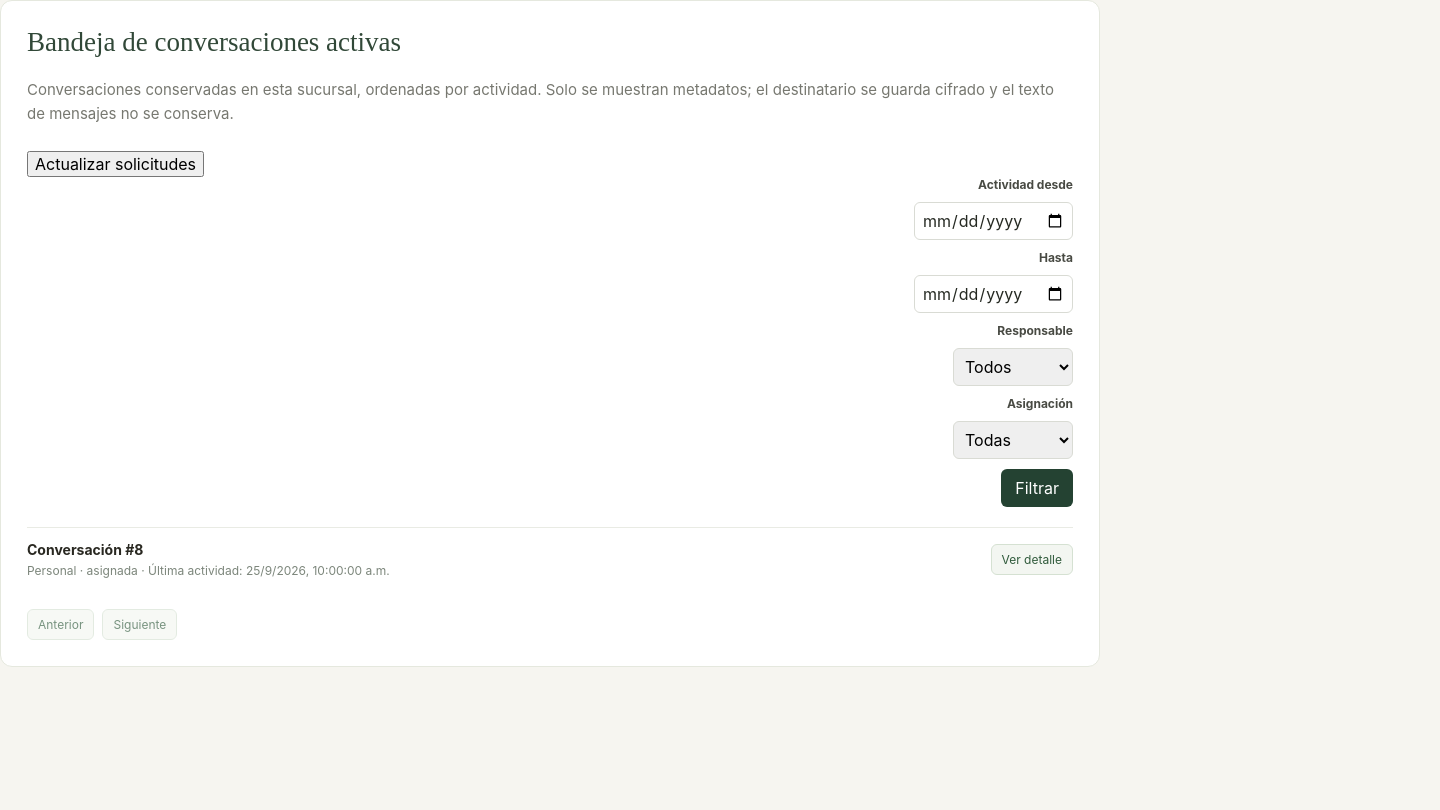
Test case: oculta la respuesta si el chat pertenece a otra persona
The image size is (1440, 810).
Expected: the text "Conversación #8" is shown, [27,541,143,558]
Click the button "Ver detalle".
click(1032, 560)  # box [991,544,1073,575]
(page scrolled)
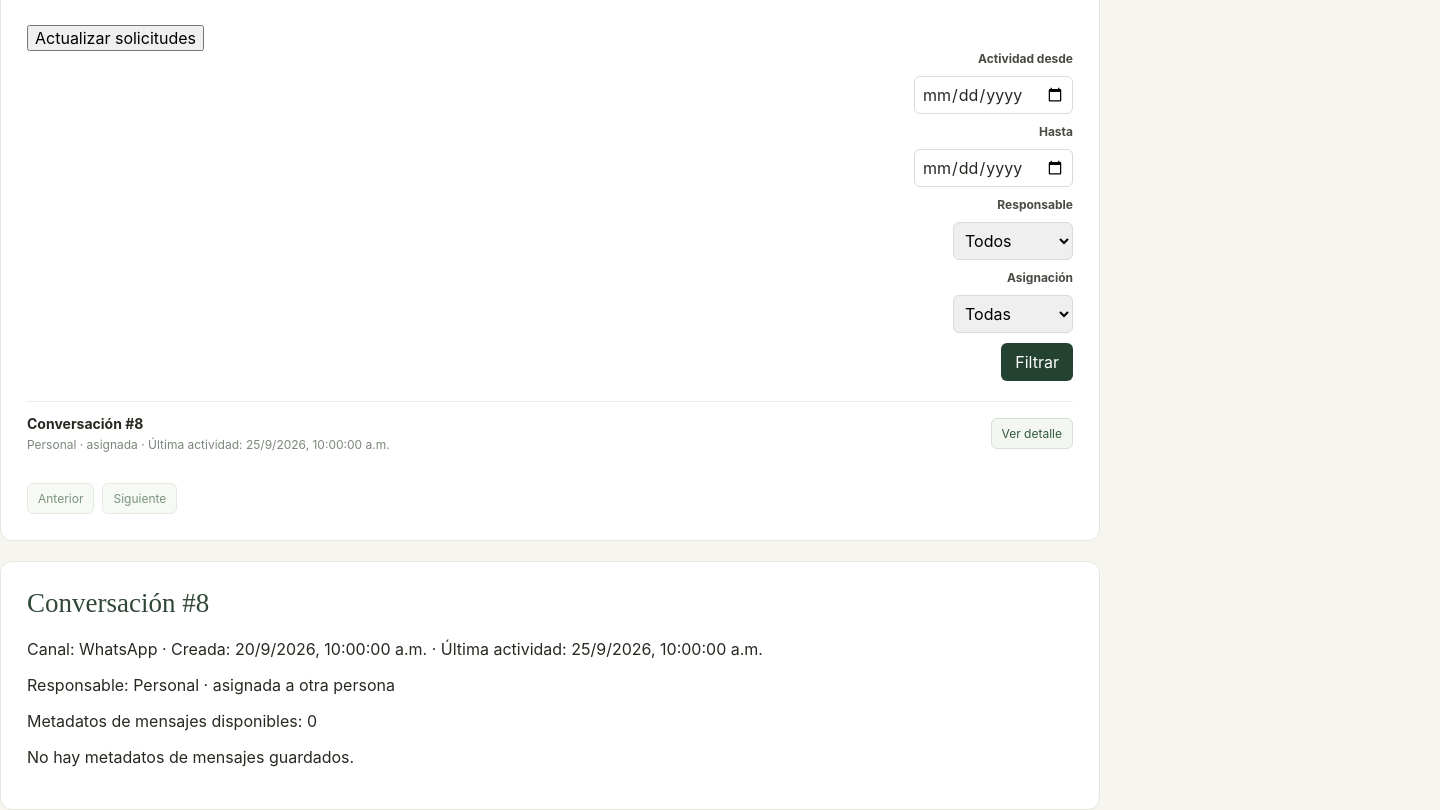
Expected: the element named "Detalle de conversación" is shown, [0,561,1100,809]
